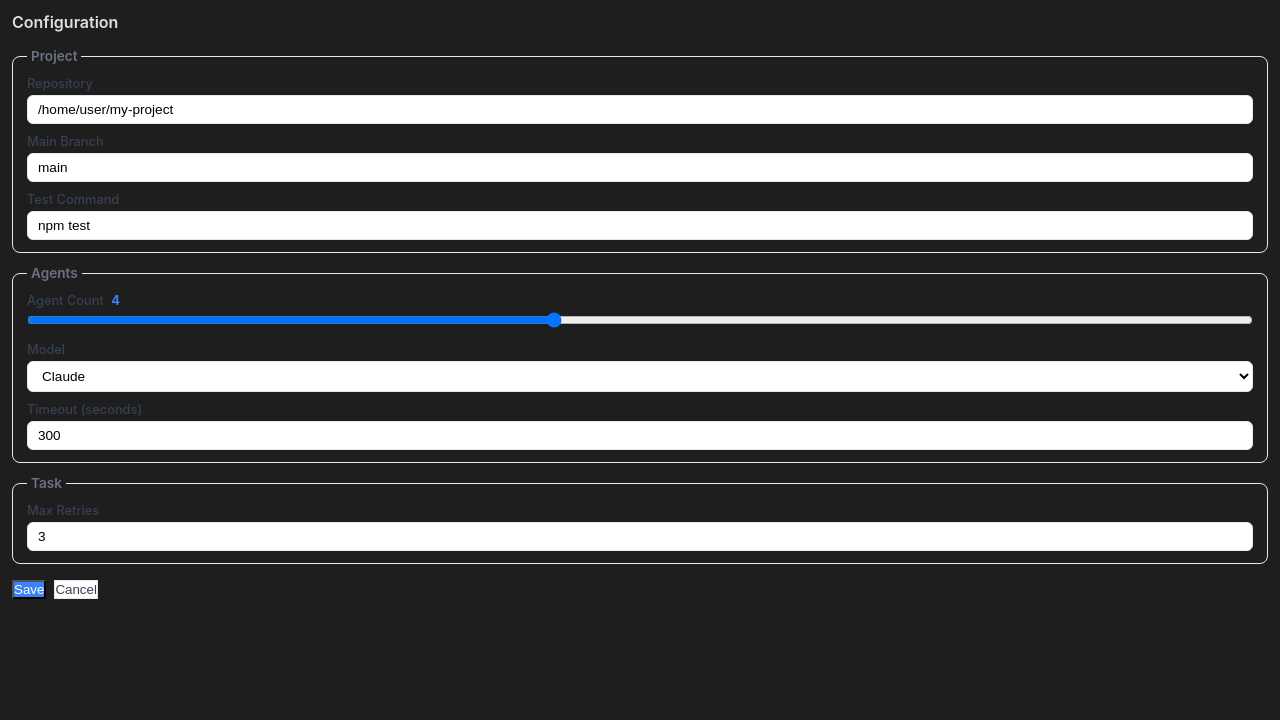
Test: ConfigPanel › should show validation error for timeout of 0
Replace the text in the number field labelled "Timeout (seconds)" with "0": (640, 436) [27, 421, 1253, 450]
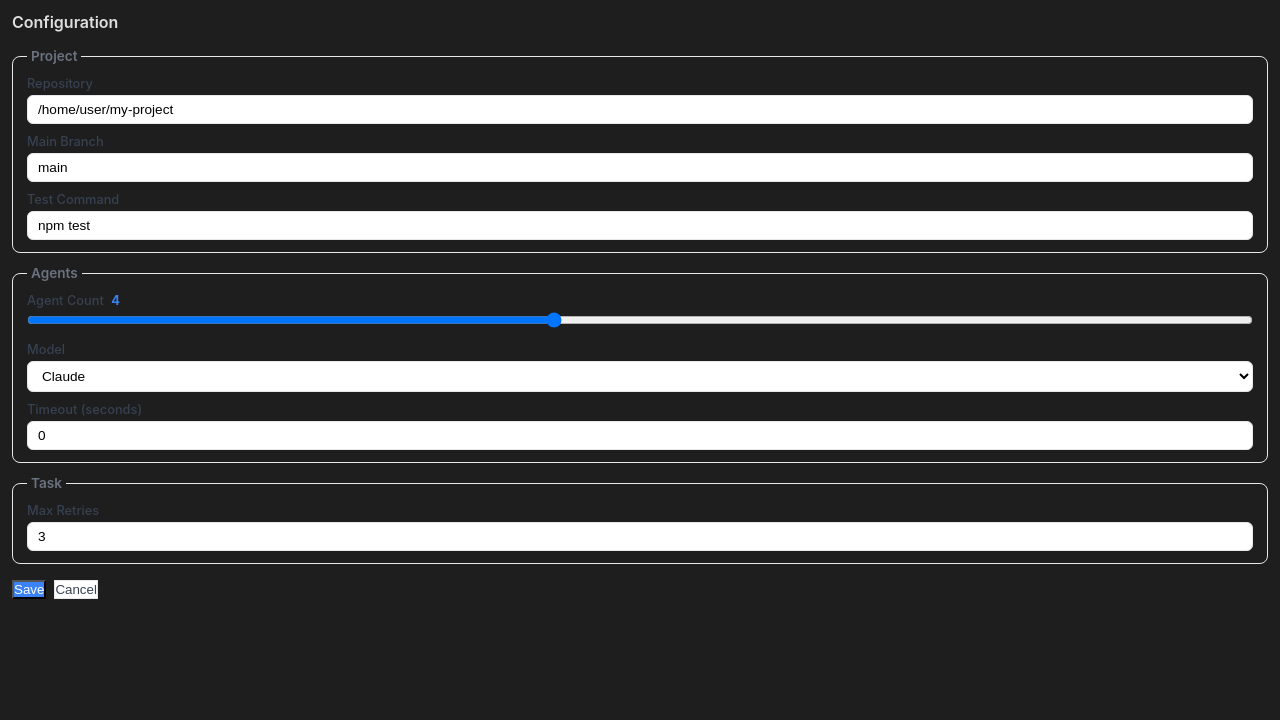
Click the button "Save": (29, 590) [12, 580, 46, 599]
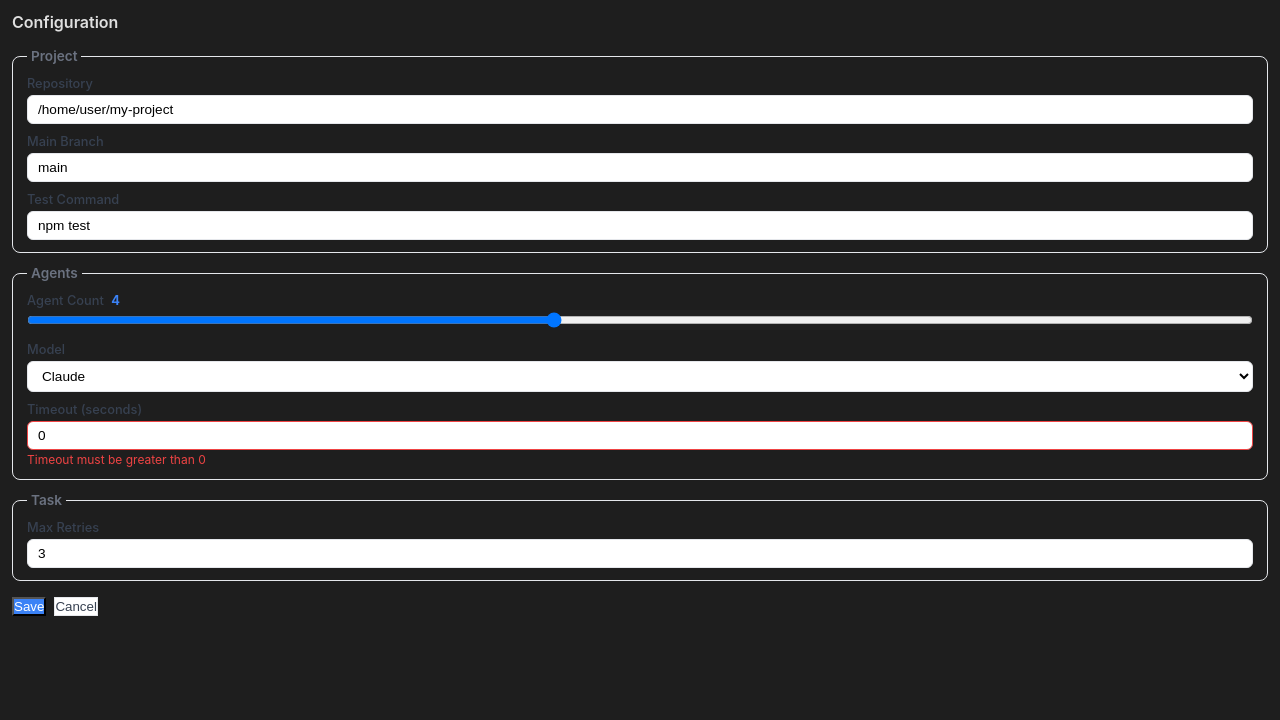
Expected: the text "Timeout must be greater than 0" is shown, [27, 452, 206, 467]
